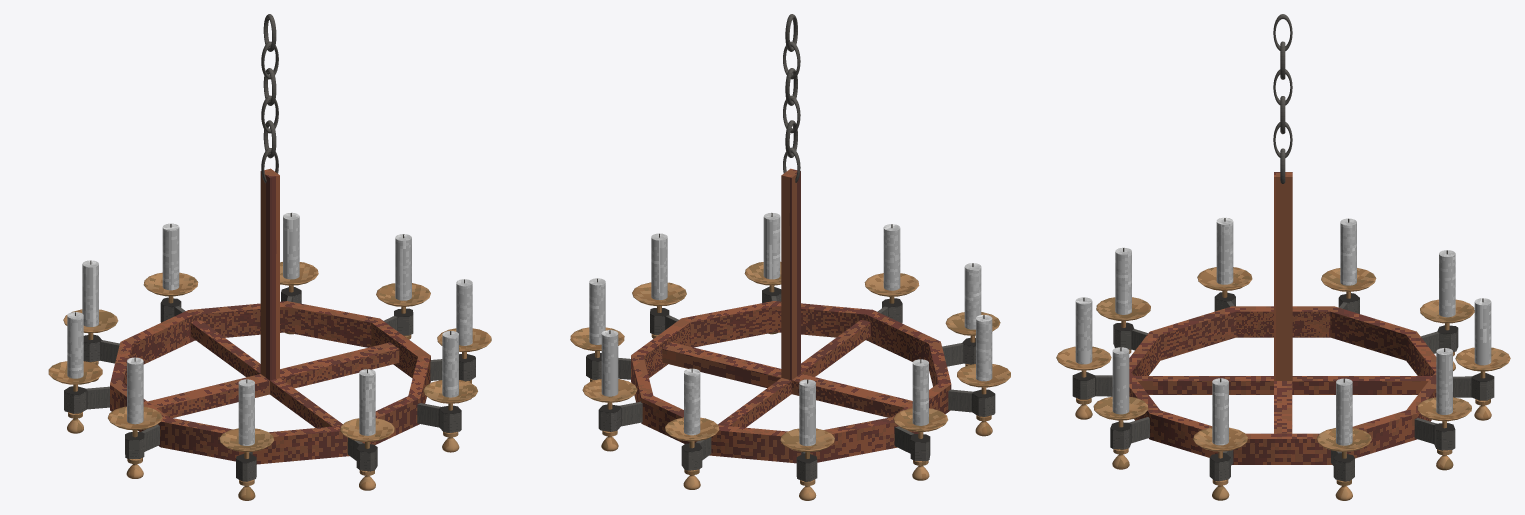
File: SM_Chandlelier(Updated.fbx
3 renders of one model, left to right at view 1: azimuth 30°, elevation 25°; view 2: azimuth 150°, elevation 25°; view 3: azimuth 270°, elevation 25°, orthographic.
Parts seen in each view (by area): view 1: Tube001, Line003, Object003, Object002, Object001; view 2: Tube001, Line003, Object003, Object002, Object001; view 3: Tube001, Line003, Object003, Object002, Object001.
Boxes of the visible parts, <box> form: Tube001: <box>110,168,430,464</box>; Line003: <box>67,212,472,445</box>; Object003: <box>48,262,491,500</box>; Object002: <box>64,287,475,481</box>; Object001: <box>261,14,278,183</box>; Tube001: <box>631,168,951,463</box>; Line003: <box>589,212,992,445</box>; Object003: <box>570,261,1010,500</box>; Object002: <box>586,286,995,481</box>; Object001: <box>783,14,800,182</box>; Tube001: <box>1129,172,1436,464</box>; Line003: <box>1075,217,1491,445</box>; Object003: <box>1056,267,1510,500</box>; Object002: <box>1072,292,1494,481</box>; Object001: <box>1273,14,1292,183</box>.
Bounding box in the file's own units: 139 × 108 × 110.
4 materials, 4 textured.
